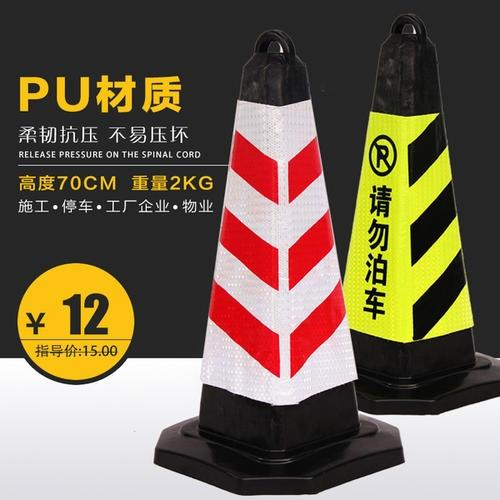cone_barrel: (175, 26, 376, 470), (329, 26, 496, 406)
